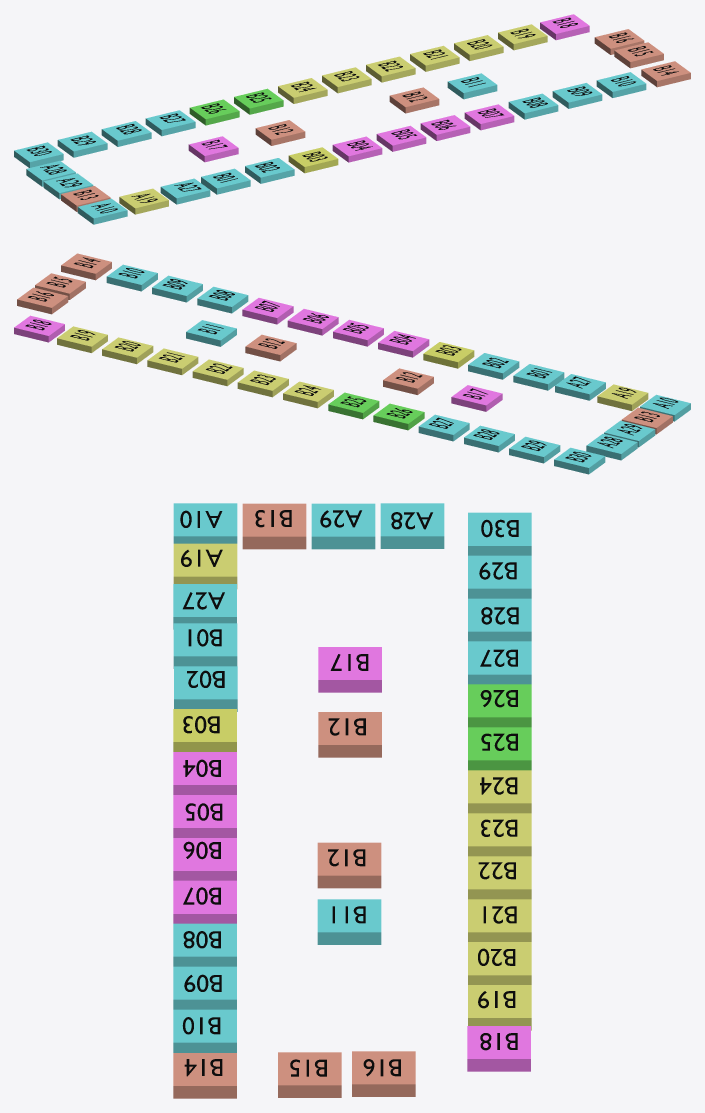
The picture shows the model from 3 angles, top to bottom: view 1: azimuth 30°, elevation 25°; view 2: azimuth 150°, elevation 25°; view 3: azimuth 270°, elevation 25°; orthographic projection. The views are drawn at different scales.
Parts seen in each view (by area): view 1: stall003, stall030, stall019, stall031, stall035, stall007, stall006, stall027, stall036, stall024, stall010, stall021 (+24 smaller); view 2: stall021, stall007, stall019, stall031, stall036, stall005, stall030, stall016, stall034, stall012, stall023, stall015 (+24 smaller); view 3: stall036, stall004, stall002, stall031, stall001, stall019, stall035, stall033, stall032, stall034, stall020, stall021 (+24 smaller).
Boxes of the visible parts, <box> form: stall003: <box>77,198,127,224</box>; stall030: <box>596,72,646,97</box>; stall019: <box>188,136,238,162</box>; stall031: <box>447,73,497,99</box>; stall035: <box>255,120,305,145</box>; stall007: <box>119,188,168,214</box>; stall006: <box>160,178,210,204</box>; stall027: <box>464,104,514,130</box>; stall036: <box>389,87,439,113</box>; stall024: <box>332,136,382,162</box>; stall010: <box>145,110,195,136</box>; stall021: <box>201,168,250,194</box>; stall021: <box>513,364,564,390</box>; stall007: <box>597,384,648,410</box>; stall019: <box>451,385,502,411</box>; stall031: <box>186,320,236,346</box>; stall036: <box>245,334,296,361</box>; stall005: <box>554,447,605,474</box>; stall030: <box>106,264,157,291</box>; stall016: <box>147,348,198,374</box>; stall034: <box>17,287,68,314</box>; stall012: <box>328,392,379,419</box>; stall023: <box>423,342,474,368</box>; stall015: <box>192,359,243,386</box>; stall036: <box>317,842,381,888</box>; stall004: <box>242,503,306,549</box>; stall002: <box>311,503,375,549</box>; stall031: <box>317,899,381,944</box>; stall001: <box>380,503,444,548</box>; stall019: <box>318,647,381,692</box>; stall035: <box>318,712,381,757</box>; stall033: <box>278,1052,341,1097</box>; stall032: <box>173,1053,236,1098</box>; stall034: <box>352,1051,415,1096</box>; stall020: <box>467,1026,530,1071</box>; stall021: <box>173,623,237,668</box>.
Size of the model in its own units: 36.63 by 0.42 by 9.52.
